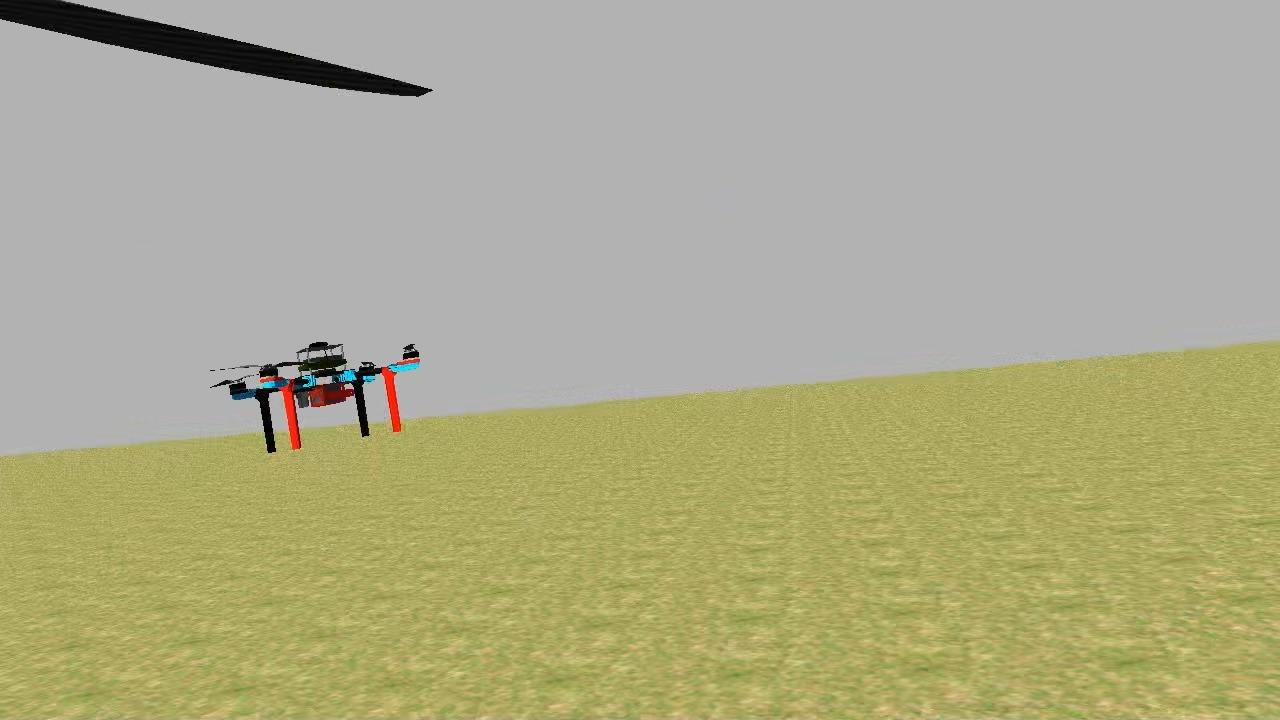UAV: (219, 330, 427, 460)
